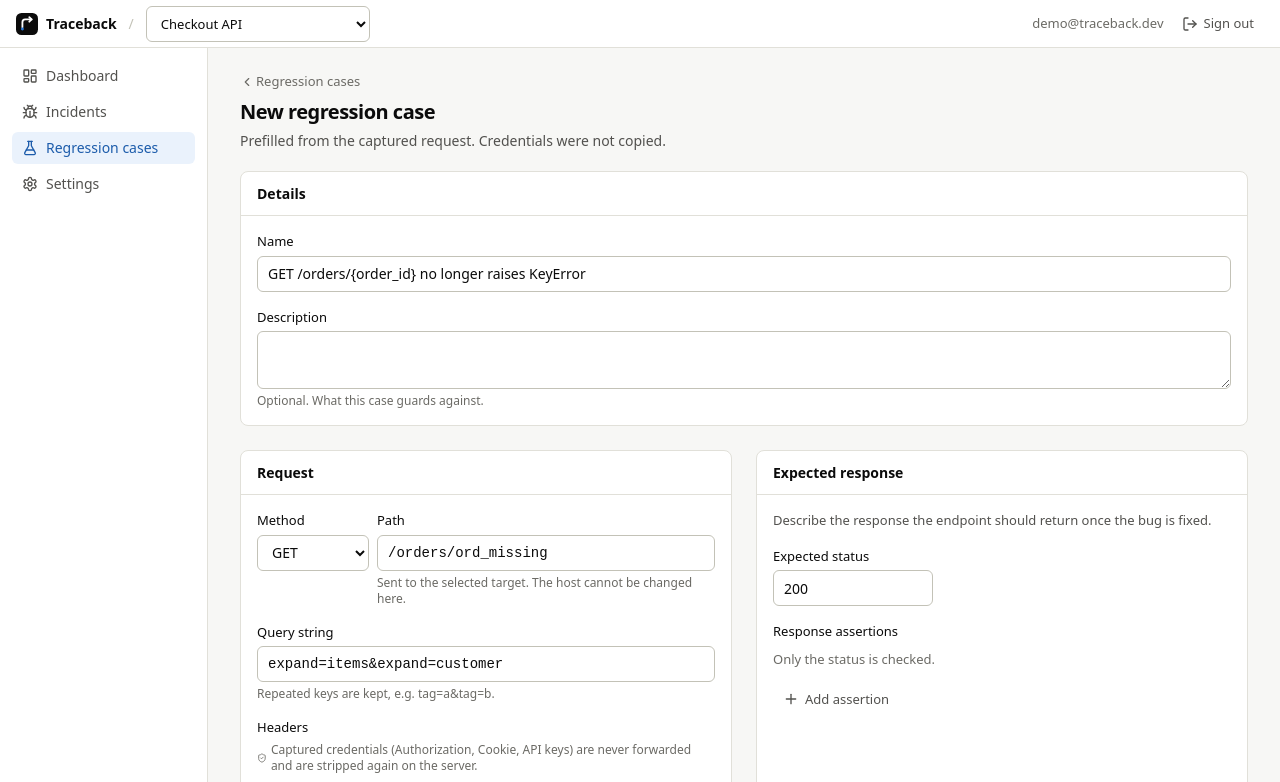
it: regression cases › save a case from a captured failure, see it fail, then pass after the fix
Replace the text in the field labelled "Name" with "Unknown order returns 404" at (744, 274), box [257,256,1231,292]
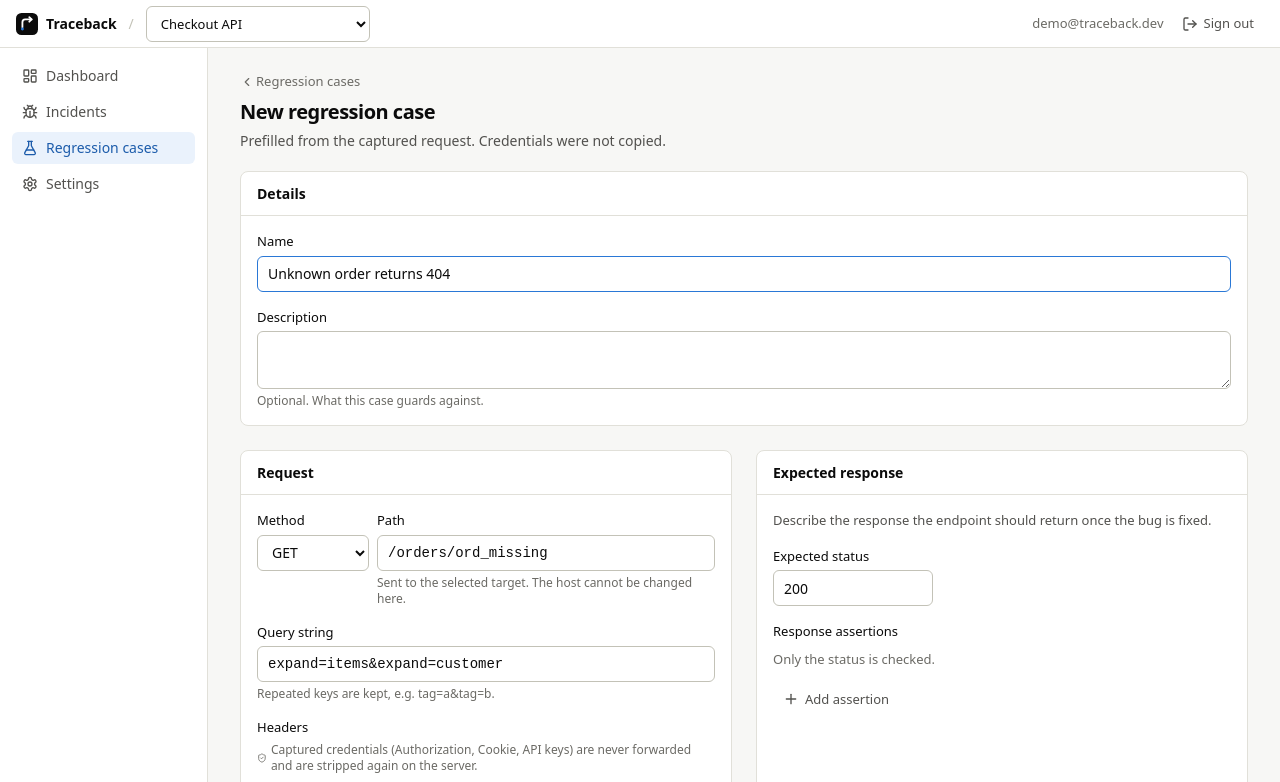
Replace the text in the field labelled "Expected status" with "404" at (853, 588), box [773,570,933,606]
(page scrolled)
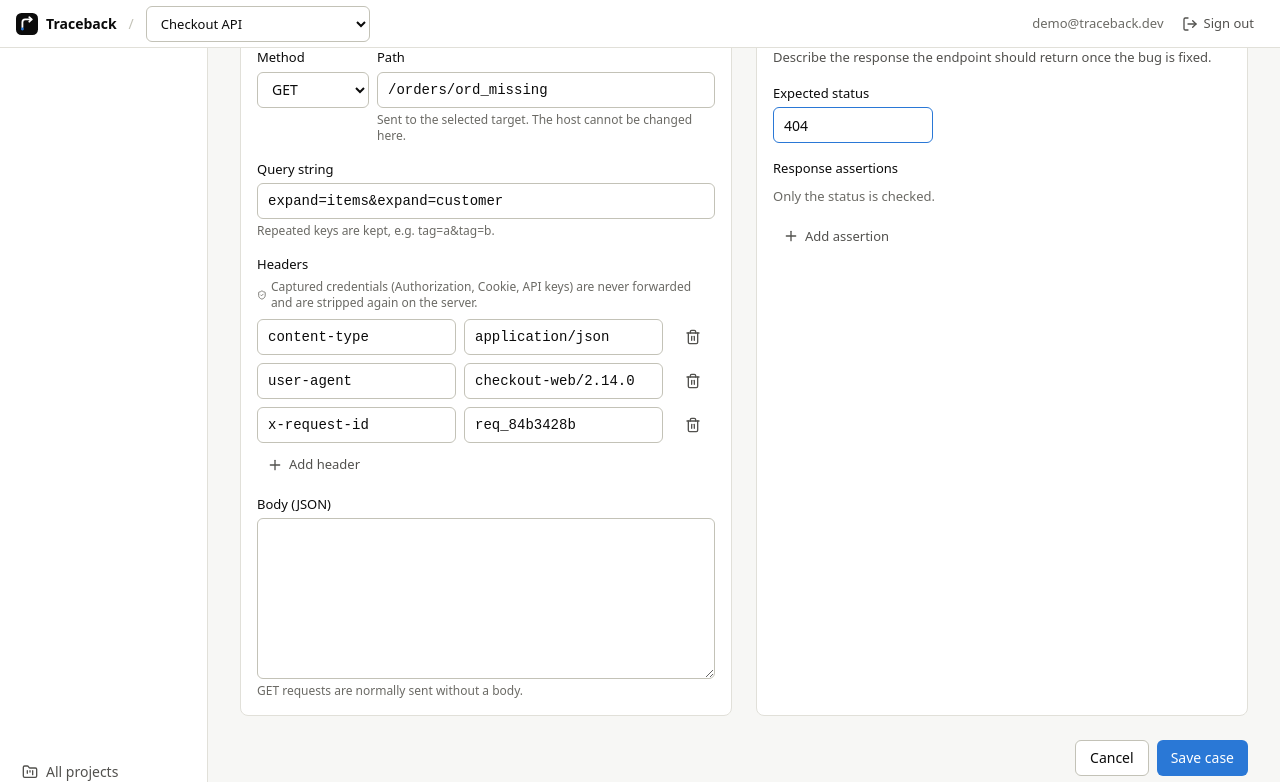
Click the button "Save case" at (1202, 758), box [1157,740,1248,776]
(page scrolled)
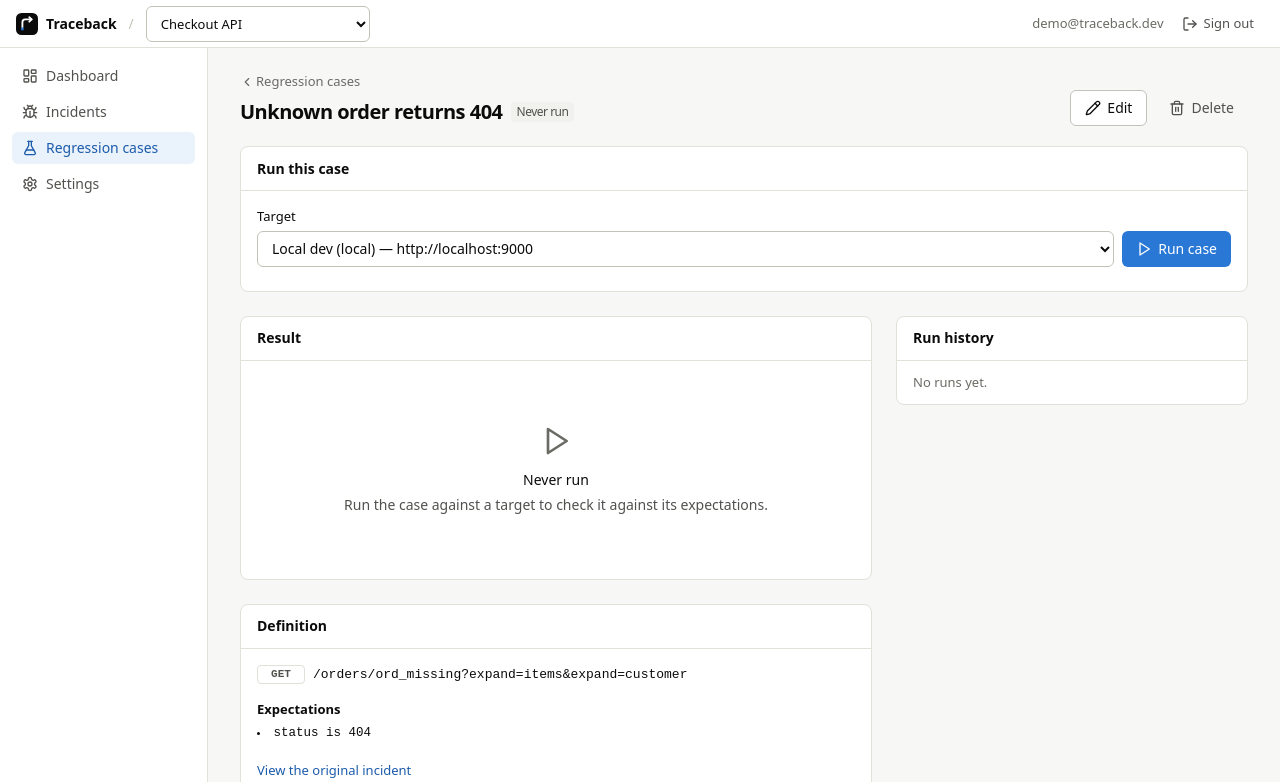
Expected: the heading "Unknown order returns 404 Never run" is shown, [240,98,574,126]
Click the button "Run case" at (1177, 249), box [1122,231,1231,267]
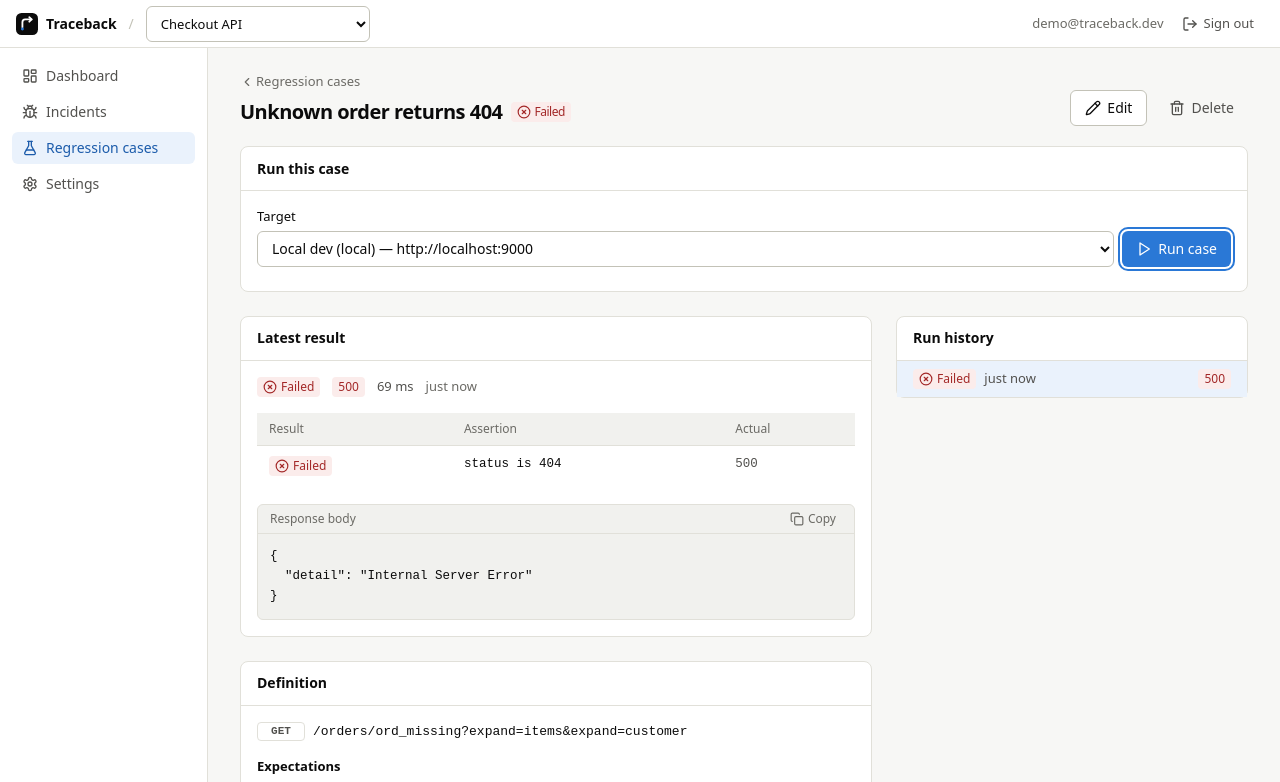
Expected: the text "Failed" below "Assertion" is shown, [293,457,326,474]
Click the button "Run case" at (1177, 249), box [1122,231,1231,267]
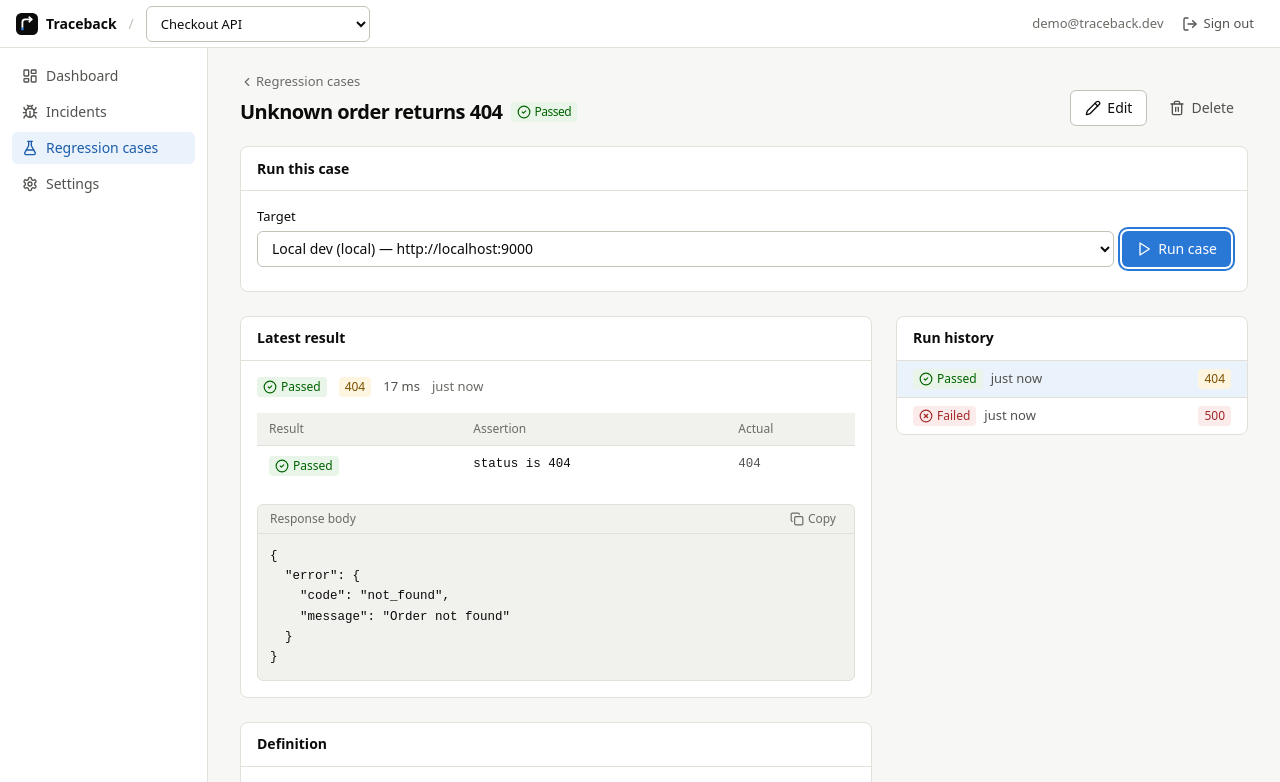
Expected: the text "Passed" below "Assertion" is shown, [293,457,333,474]
